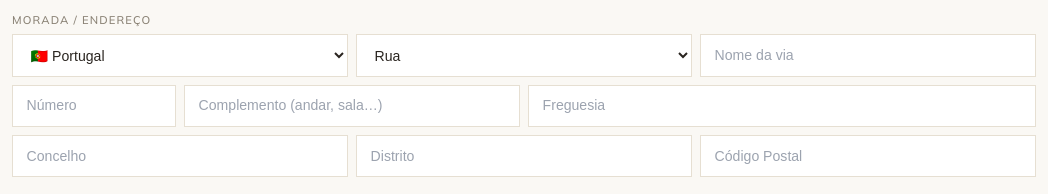
Scenario: AddressEditor › voltar a Portugal traz de volta os campos portugueses
Select "🇧🇷 Brasil" in the 1st dropdown: (180, 56) left=12, top=34, right=348, bottom=77
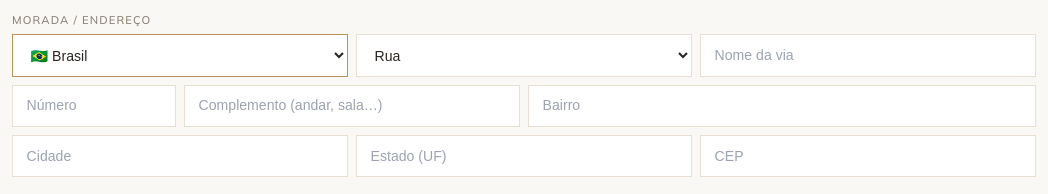
Select "🇵🇹 Portugal" in the 1st dropdown: (180, 56) left=12, top=34, right=348, bottom=77
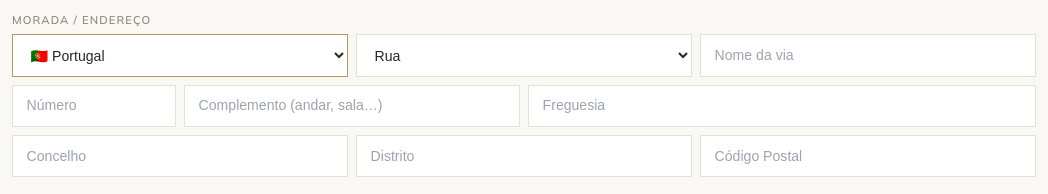
Now the field with placeholder "Freguesia" is shown, box left=528, top=85, right=1036, bottom=127
